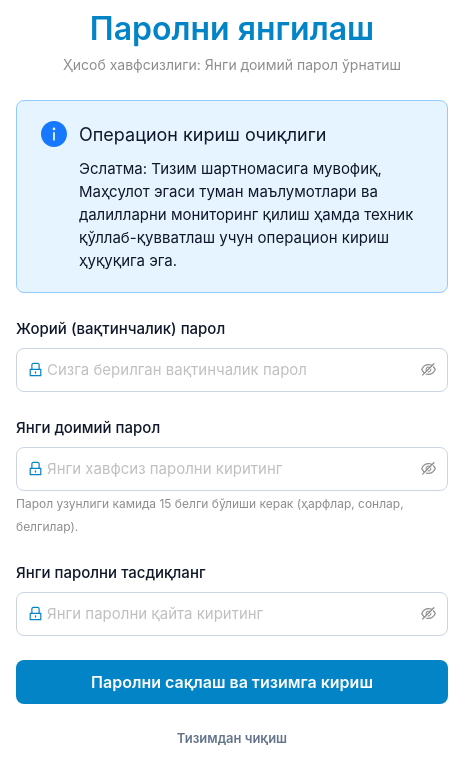
Scenario: FirstSignInPasswordChangePage & Route Guard Tests (AC 10, 11, 12, 13, 17) › validates minimum 15 characters and password mismatch
Note: Fill short password
Type "Old-Temp-Pass-12345" into the password field with id "current-password-input" at (232, 370), box [47,358,417,381]
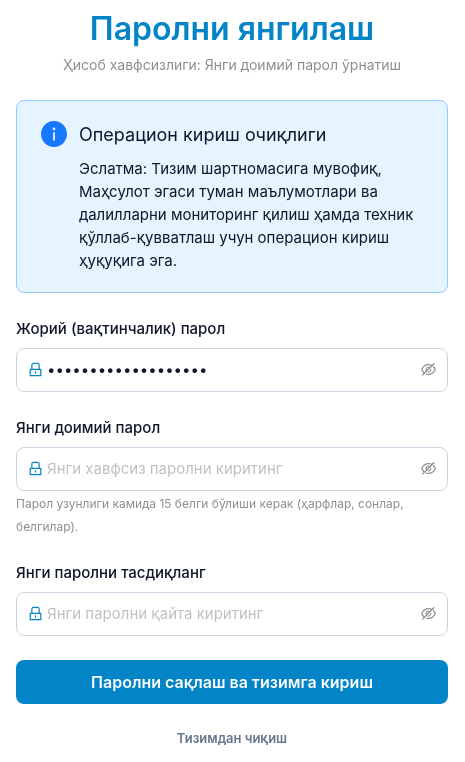
Type "Short123" into the password field with id "new-password-input" at (232, 469), box [47,457,417,480]
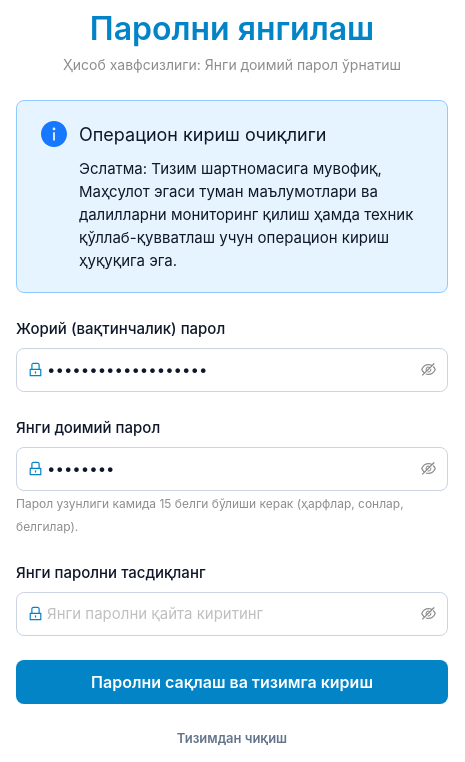
Type "Short123" into the password field with id "confirm-password-input" at (232, 614), box [47,602,417,625]
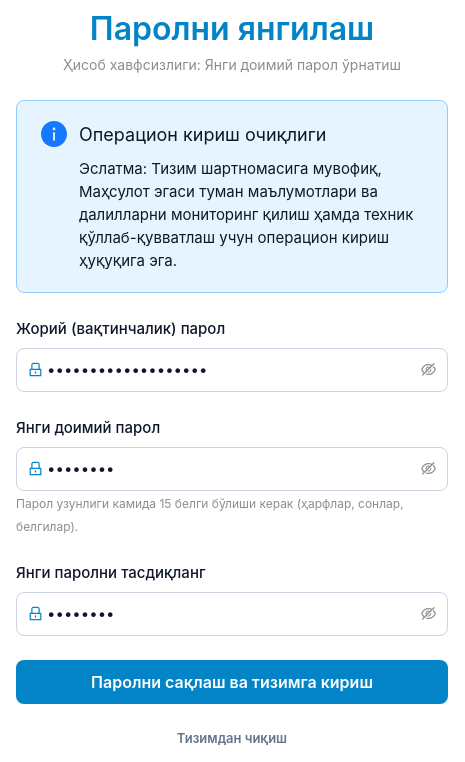
Click the button "Паролни сақлаш ва тизимга кириш" at (232, 682), box [16,660,448,704]
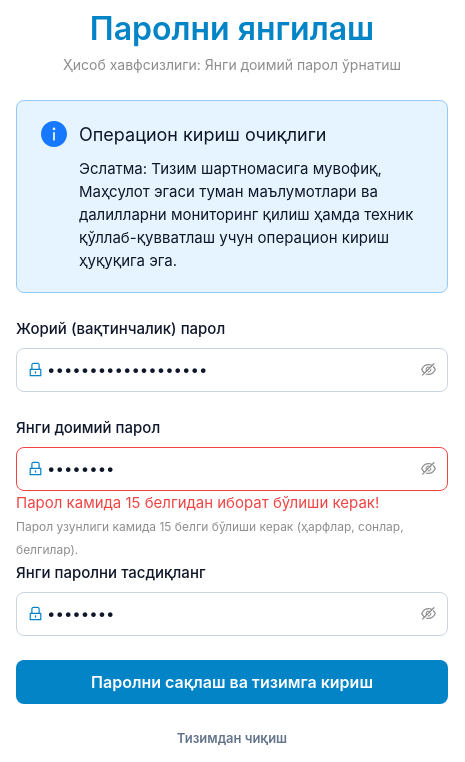
Now the text "Парол камида 15 белгидан иборат бўлиши керак!" is shown, box [16,493,379,512]
